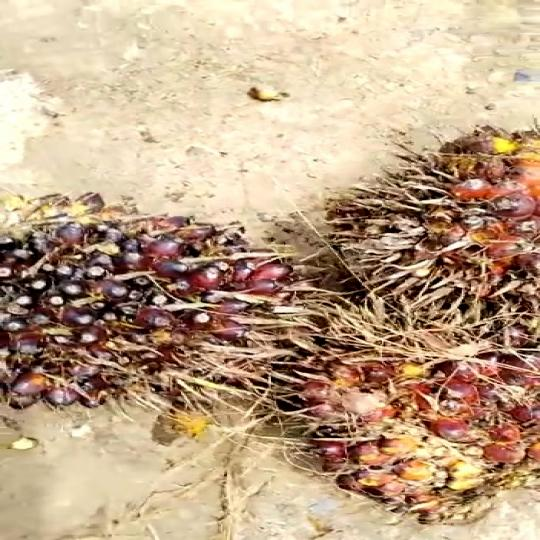masak: (0, 196, 304, 423), (269, 314, 538, 524), (311, 124, 540, 332)
